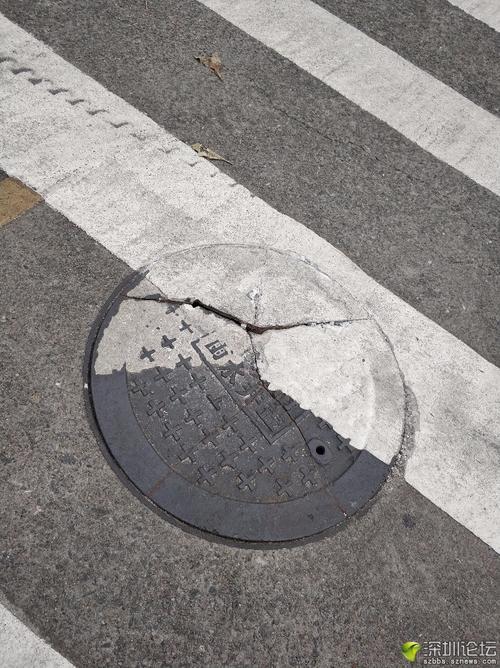broke: (64, 225, 433, 551)
